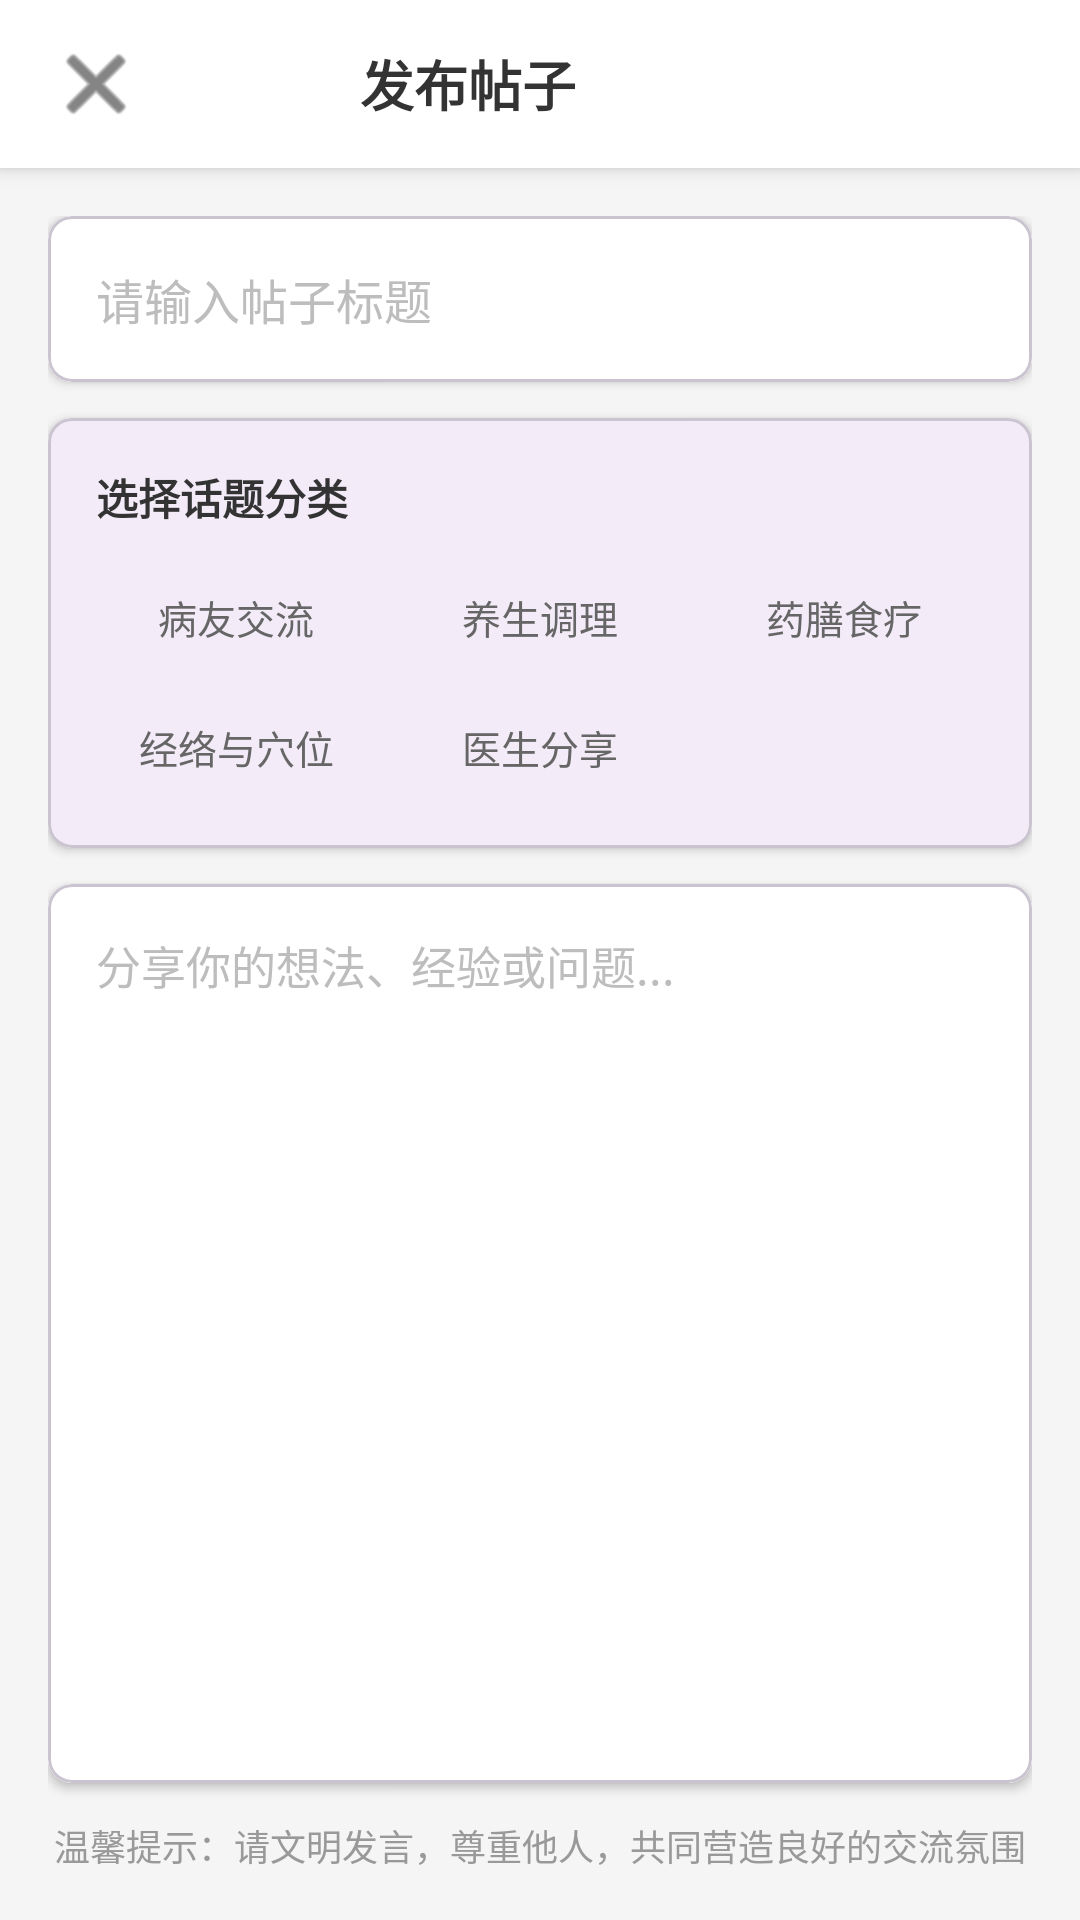

Locate icon controls on the screen. Image size 1080 x 1920, boxes as (x1, y1, x2, y2).
返回: (66, 54, 126, 114)
